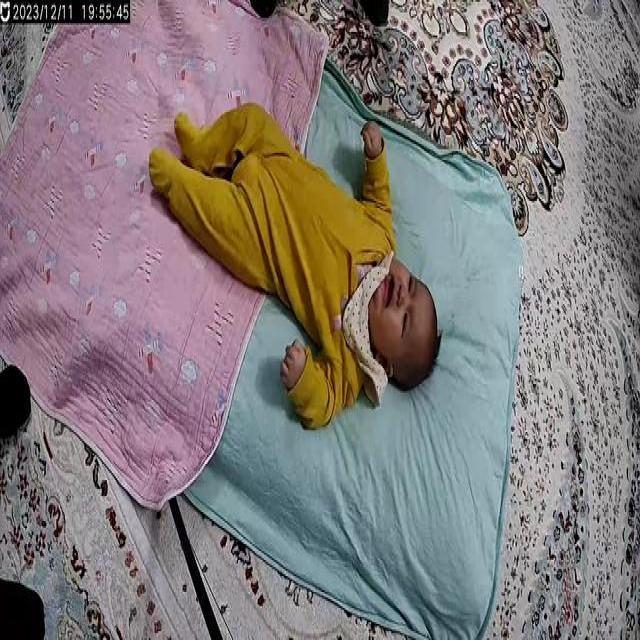baby: (146, 101, 442, 432)
